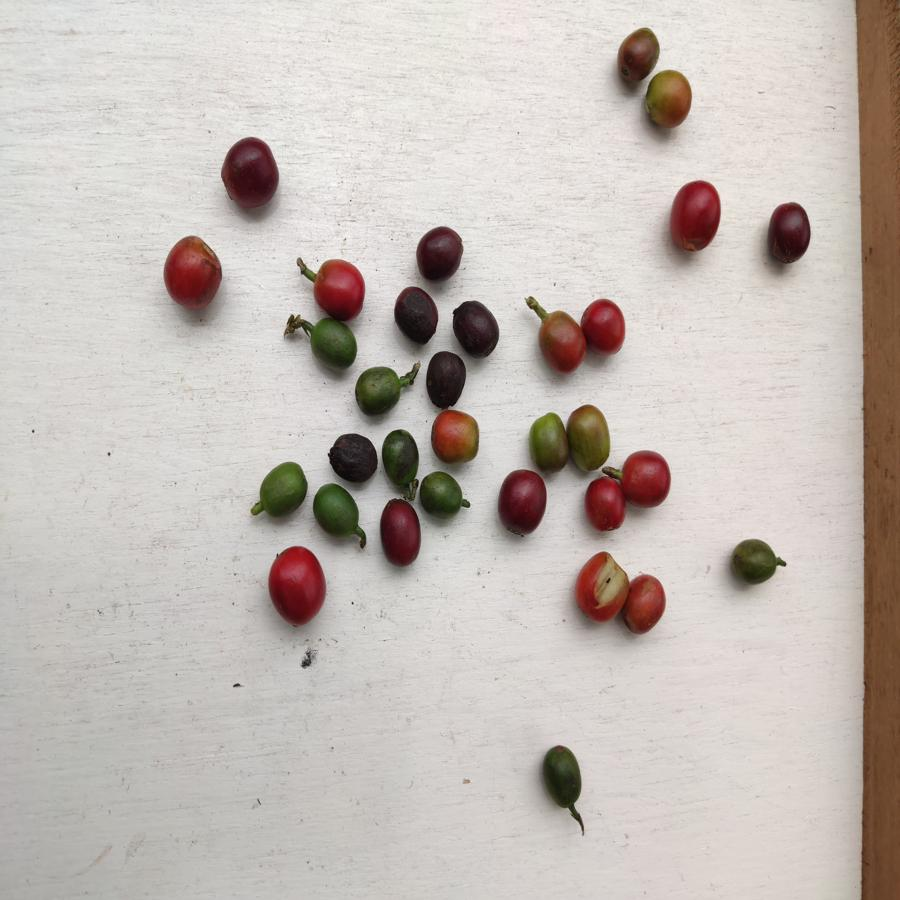Inmaduro: (538, 742, 588, 815), (313, 483, 361, 546), (308, 320, 366, 371), (729, 537, 786, 586), (258, 463, 308, 517), (355, 364, 401, 417), (419, 470, 463, 524), (383, 430, 421, 490)
Maduro: (268, 546, 326, 631), (162, 236, 223, 310), (667, 180, 723, 254), (576, 551, 628, 626), (617, 451, 673, 513), (310, 258, 366, 318), (623, 573, 666, 635), (582, 298, 628, 353), (582, 478, 628, 532)
Pinton: (537, 308, 585, 374), (644, 70, 694, 131), (567, 406, 613, 472), (428, 408, 482, 464), (529, 410, 573, 474), (613, 28, 663, 83)
Sobremaduro: (218, 133, 282, 211), (494, 468, 547, 539), (378, 498, 423, 568), (414, 224, 463, 286), (767, 200, 813, 264), (324, 433, 379, 485), (423, 352, 472, 409), (393, 284, 440, 343), (454, 298, 500, 357)
